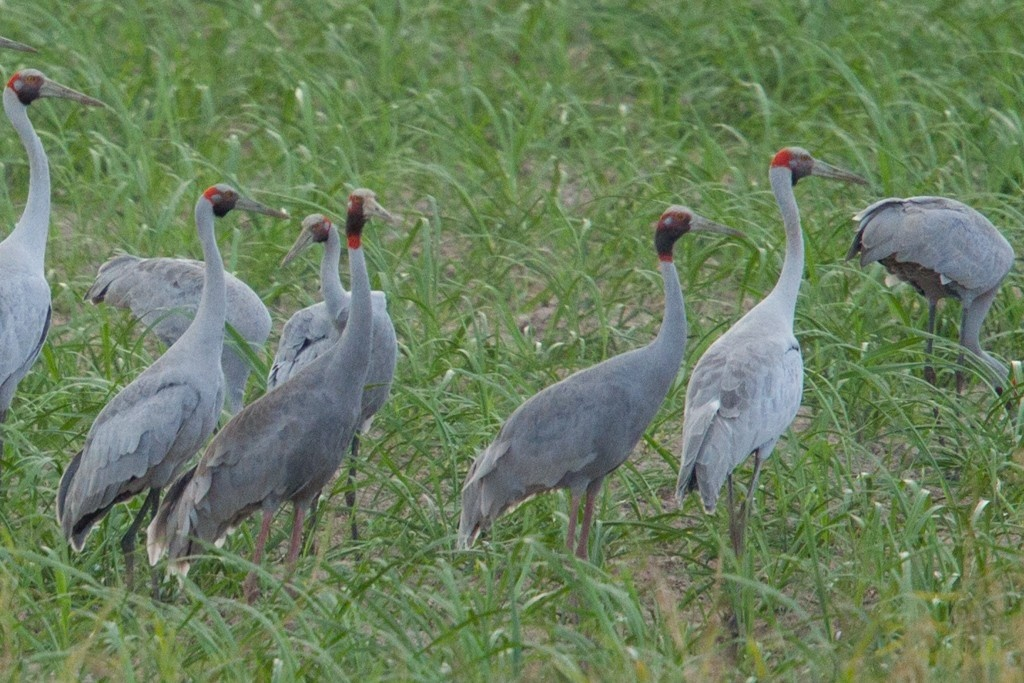crane: (459, 185, 753, 582), (175, 188, 399, 612), (671, 138, 876, 547), (1, 58, 108, 427), (281, 208, 347, 334), (196, 184, 298, 264)
